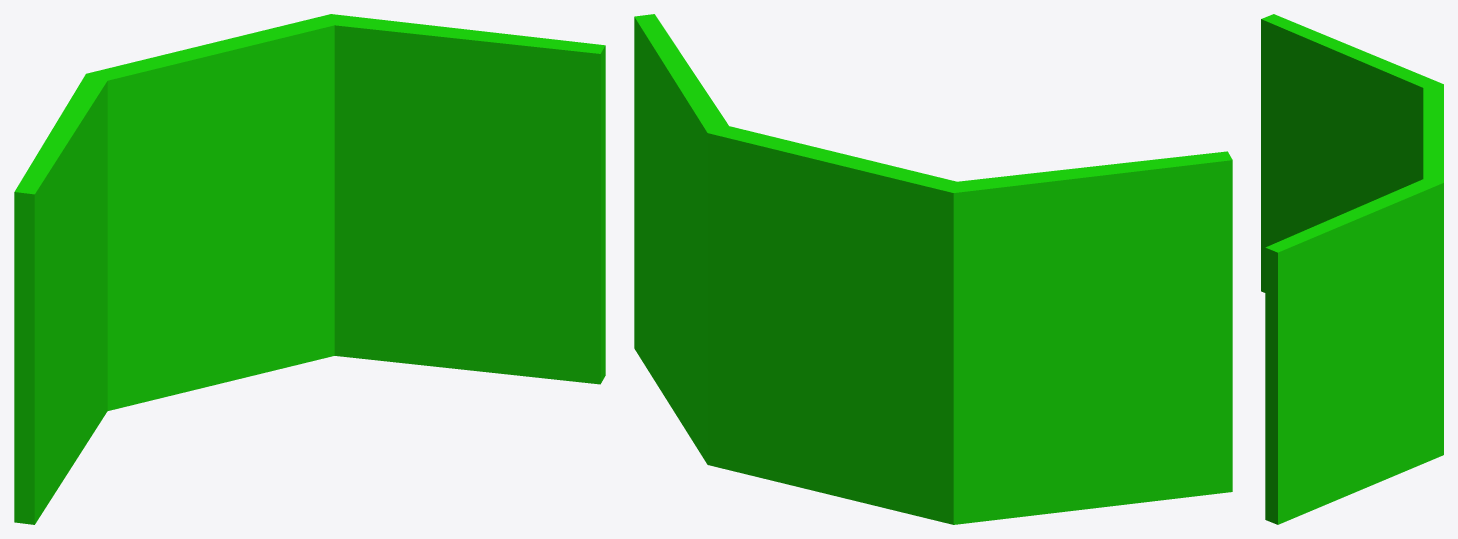
File: sm_wall_180_collider_updated.fbx
3 renders of one model, left to right at view 1: azimuth 30°, elevation 25°; view 2: azimuth 150°, elevation 25°; view 3: azimuth 270°, elevation 25°, orthographic. The views are drawn at different scales.
Parts seen in each view (by area): view 1: Cube.005; view 2: Cube.005; view 3: Cube.005.
Part boxes in pixels (x1=…): Cube.005: x1=14, y1=14, x2=605, y2=524; Cube.005: x1=634, y1=14, x2=1232, y2=524; Cube.005: x1=1261, y1=14, x2=1443, y2=524.
Size of the model in its own units: 1461 by 777 by 472.
